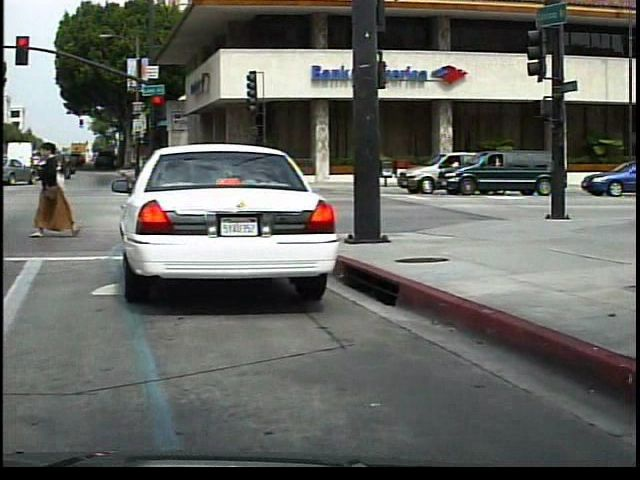person: (33, 136, 86, 242)
